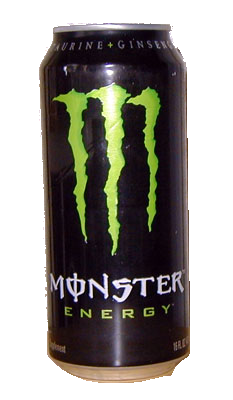grozi_42: (38, 22, 189, 382)
